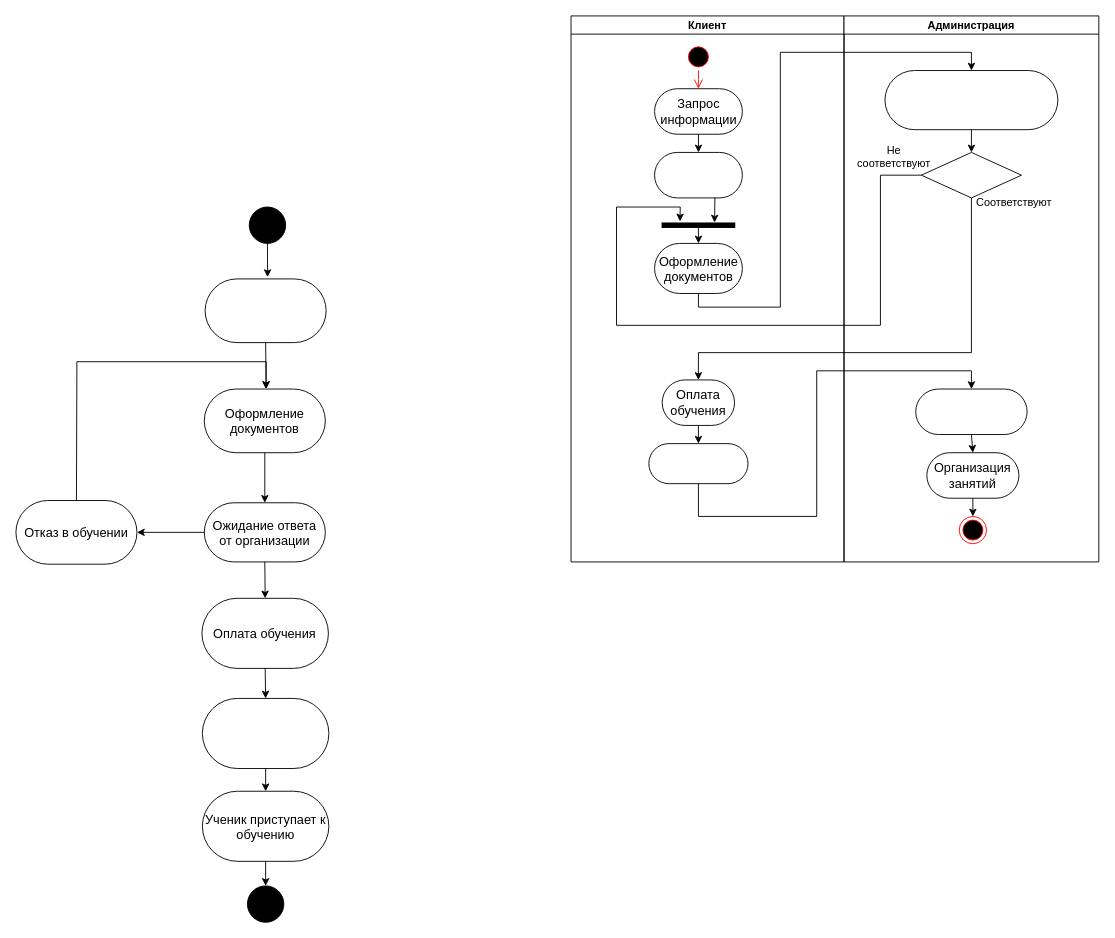
Some shapes in this 1115 by 938 pixel diagram are drawn without their labels. The shapes that lost their labels are listed below. From the top down, each one's centre as x and y in pixels, then its label:
At point (971, 100): "Проверка документов на соответствие требованиям".
At point (698, 175): "Запись на обучение".
At point (265, 310): "Подана новая заявка на обучение".
At point (971, 411): "Определение в группу".
At point (698, 463): "Подготовка к обучению".
At point (265, 733): "Ученик определён в группу".
